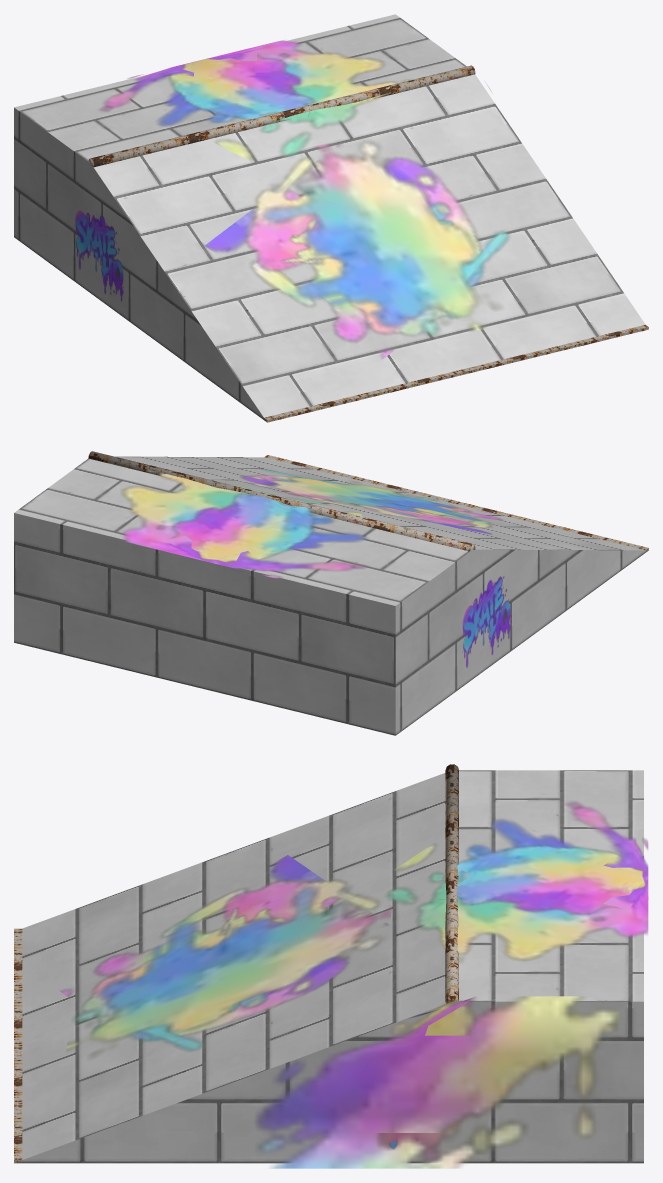
The model's file is BankRamp.glb.
3 renders of one model, top to bottom at view 1: azimuth 30°, elevation 25°; view 2: azimuth 150°, elevation 25°; view 3: azimuth 270°, elevation 25°, orthographic. The views are drawn at different scales.
Parts seen in each view (by area): view 1: BankRamp_Body, BankRamp_Paint, BankRamp_Edge, BankRamp_GfxL; view 2: BankRamp_Body, BankRamp_Paint, BankRamp_Edge, BankRamp_GfxL; view 3: BankRamp_Body, BankRamp_Paint, BankRamp_Edge.
Boxes of the visible parts, x1,y1,x2,y2 form: BankRamp_Body: (14,14,645,421); BankRamp_Paint: (99,40,509,358); BankRamp_Edge: (88,65,648,422); BankRamp_GfxL: (75,210,123,301); BankRamp_Body: (14,456,648,735); BankRamp_Paint: (121,469,502,578); BankRamp_Edge: (88,451,648,551); BankRamp_GfxL: (462,576,510,667); BankRamp_Body: (14,770,643,1163); BankRamp_Paint: (60,801,648,1168); BankRamp_Edge: (14,764,458,1162).
Size of the model in its own units: 4.07 by 1.39 by 4.64.
Materials: 4 (4 with a texture image).
